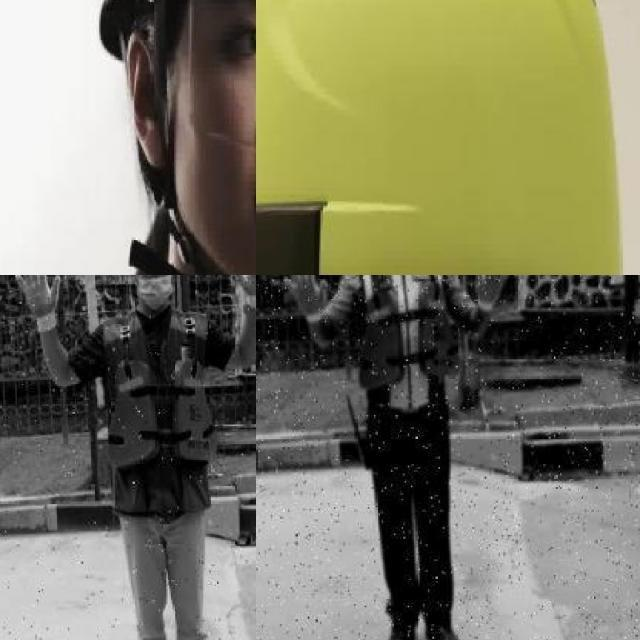apron: (14, 275, 61, 336), (280, 275, 331, 326), (470, 275, 514, 314), (228, 275, 256, 310)
